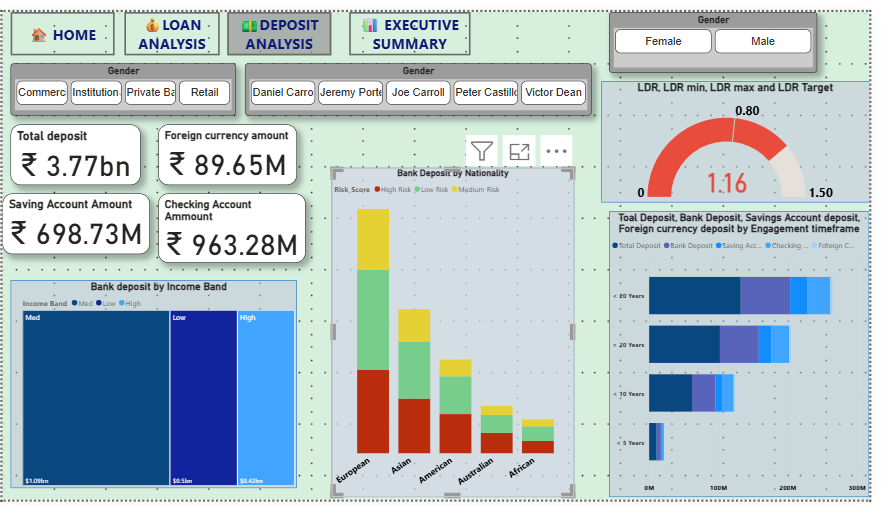

Layout of this report page (visuals, bound fields, positions):
{"tool":"powerbi","page":{"name":"DEPOSIT ANALYSIS","canvas":[1600,900],"ordinal":2},"visuals":[{"type":"shape","box":[1120,368,480,528],"z":0},{"type":"shape","box":[608,288,448,608],"z":1000},{"type":"shape","box":[16,496,528,384],"z":2000},{"type":"card","title":"Total deposit","fields":{"Values":["banking_client.Total Deposit"]},"box":[16,208,240,112],"z":3000},{"type":"card","title":"Foreign currency amount","fields":{"Values":["banking_client.Foreign Currency Account"]},"box":[288,208,256,112],"z":4000},{"type":"card","title":"Saving Account Amount","fields":{"Values":["banking_client.Saving Accounts"]},"box":[0,336,272,112],"z":5000},{"type":"card","title":"Checking Account Ammount","fields":{"Values":["banking_client.Checking Accounts"]},"box":[288,336,272,128],"z":6000},{"type":"treemap","title":"Bank deposit by Income Band","fields":{"Group":["banking_client.Income Band"],"Values":["banking_client.Bank Deposits"]},"box":[32,496,512,384],"z":7000},{"type":"barChart","title":"Toal Deposit, Bank Deposit, Savings Account deposit, Foreign currency deposit by Engagement timeframe","fields":{"Category":["banking_client.Engagement Timeframe"],"Y":["banking_client.Total Deposit","banking_client.Bank Deposit","banking_client.Saving Account Deposits","banking_client.Checking Account Deposits","banking_client.Foreign Currency Deposit"]},"box":[1120,368,480,528],"z":8000},{"type":"actionButton","box":[640,0,224,80],"z":9000},{"type":"actionButton","box":[224,0,176,80],"z":10000},{"type":"actionButton","box":[416,0,192,80],"z":11000},{"type":"ChicletSlicer1448559807354","title":"Gender","fields":{"Category":["banking_client.Gender"]},"box":[1120,0,384,112],"z":13000},{"type":"ChicletSlicer1448559807354","title":"Gender","fields":{"Category":["banking_realtionships.Banking Relationship"]},"box":[16,96,416,96],"z":14000},{"type":"ChicletSlicer1448559807354","title":"Gender","fields":{"Category":["investment_advisiors.Investment Advisor"]},"box":[448,96,640,96],"z":15000},{"type":"actionButton","box":[16,0,192,80],"z":16000},{"type":"columnChart","title":"Bank Deposit by Nationality","fields":{"Category":["banking_client.Nationality"],"Y":["banking_client.Bank Deposit"],"Series":["banking_client.Risk_Score"]},"box":[608,288,448,608],"z":17000},{"type":"shape","box":[1104,128,496,224],"z":17500},{"type":"gauge","title":"LDR,  LDR min, LDR max and LDR Target","fields":{"Y":["banking_client.LoanToDeposit Ratio"],"MinValue":["banking_client.LDR min"],"MaxValue":["banking_client.LDR max"],"TargetValue":["banking_client.LDR TArget"]},"box":[1104,128,496,224],"z":18000}]}

Visuals, with their boxes in screenshot pixels (x1, y1, x2, y2), scaled from the page's 1600x900 canvas onto the 896x513 screenshot:
shape: x1=627 y1=210 x2=895 y2=511
shape: x1=340 y1=164 x2=591 y2=511
shape: x1=9 y1=283 x2=305 y2=502
"Total deposit" card: x1=9 y1=119 x2=143 y2=182
"Foreign currency amount" card: x1=161 y1=119 x2=305 y2=182
"Saving Account Amount" card: x1=0 y1=192 x2=152 y2=255
"Checking Account Ammount" card: x1=161 y1=192 x2=314 y2=264
"Bank deposit by Income Band" treemap: x1=18 y1=283 x2=305 y2=502
"Toal Deposit, Bank Deposit, Savings Account deposit, Foreign currency deposit by Engagement timeframe" barChart: x1=627 y1=210 x2=895 y2=511
actionButton: x1=358 y1=0 x2=484 y2=46
actionButton: x1=125 y1=0 x2=224 y2=46
actionButton: x1=233 y1=0 x2=340 y2=46
"Gender" ChicletSlicer1448559807354: x1=627 y1=0 x2=842 y2=64
"Gender" ChicletSlicer1448559807354: x1=9 y1=55 x2=242 y2=109
"Gender" ChicletSlicer1448559807354: x1=251 y1=55 x2=609 y2=109
actionButton: x1=9 y1=0 x2=116 y2=46
"Bank Deposit by Nationality" columnChart: x1=340 y1=164 x2=591 y2=511
shape: x1=618 y1=73 x2=895 y2=201
"LDR,  LDR min, LDR max and LDR Target" gauge: x1=618 y1=73 x2=895 y2=201
